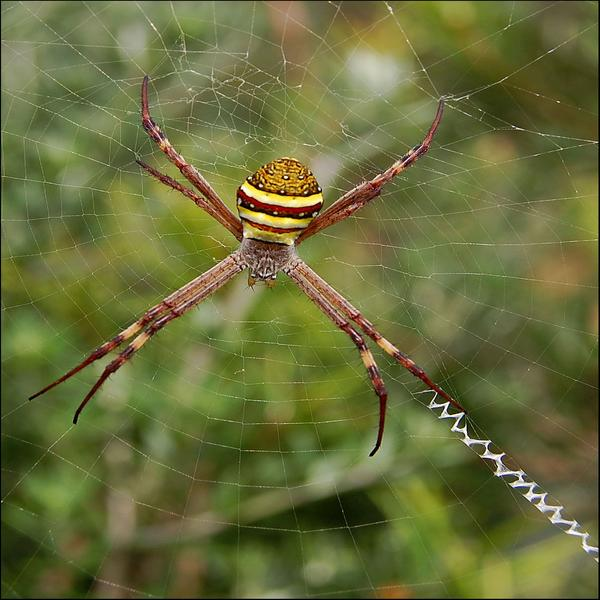St Andrew's Cross Spider: (36, 76, 473, 436)
